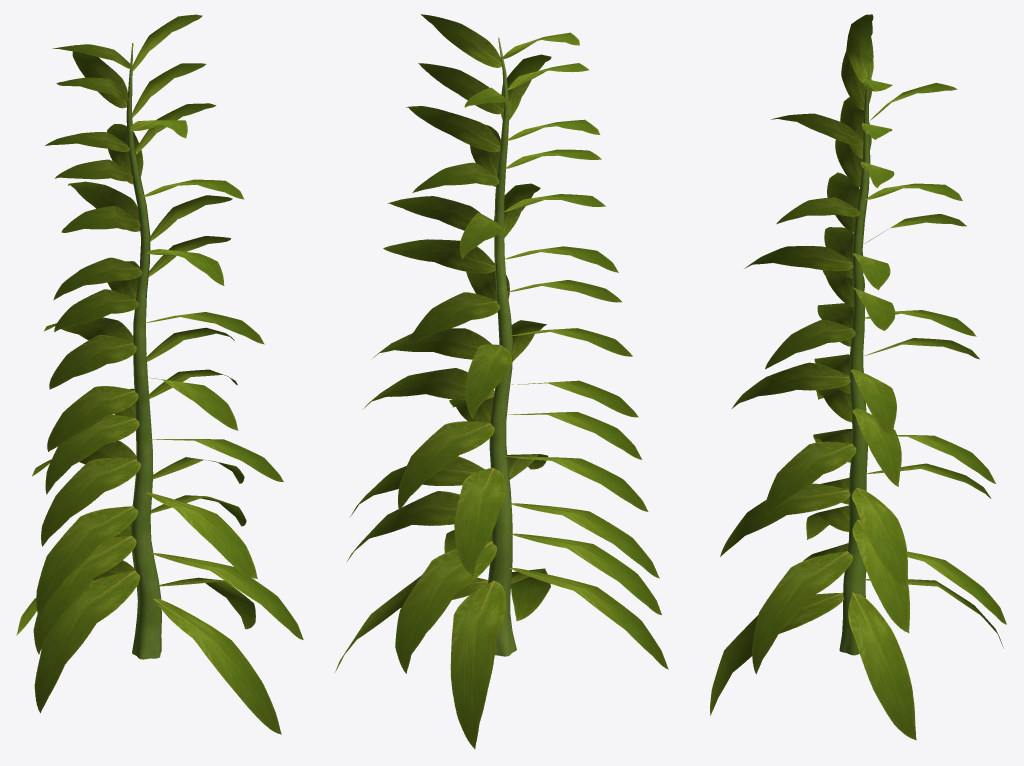
Rendered from SM_Kelp_02.fbx.
3 views of the same model, side by side, from view 1: azimuth 30°, elevation 25°; view 2: azimuth 150°, elevation 25°; view 3: azimuth 270°, elevation 25° (orthographic). The views are drawn at different scales.
Parts seen in each view (by area): view 1: leaf palm_1, plant01_0; view 2: leaf palm_1, plant01_0; view 3: leaf palm_1, plant01_0.
Part boxes in pixels (x1,y1,x2,y2): leaf palm_1: (16, 14, 303, 734); plant01_0: (126, 43, 161, 659); leaf palm_1: (335, 14, 668, 749); plant01_0: (487, 37, 516, 656); leaf palm_1: (710, 14, 1006, 740); plant01_0: (839, 64, 870, 655).
Size of the model in its own units: 73.06 by 165 by 72.79.
